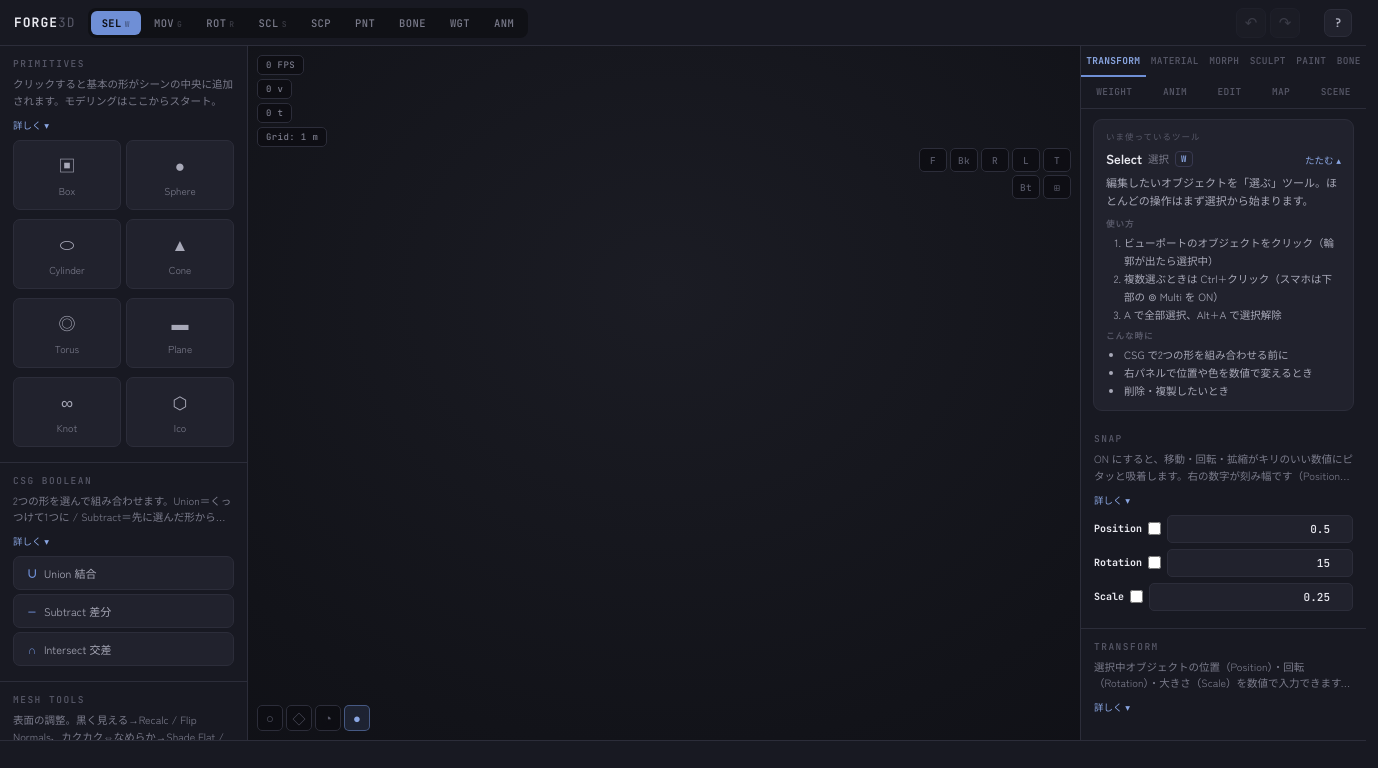
Test: App › the right panel shows the open tab's sections, each with its note, and the tool card
The width and height of the screenshot is (1378, 768).
Expected: the element named "Select の説明" is shown, [1093,119,1354,411]
Click the tab "Material": click(1175, 62) [1146,46,1204,77]
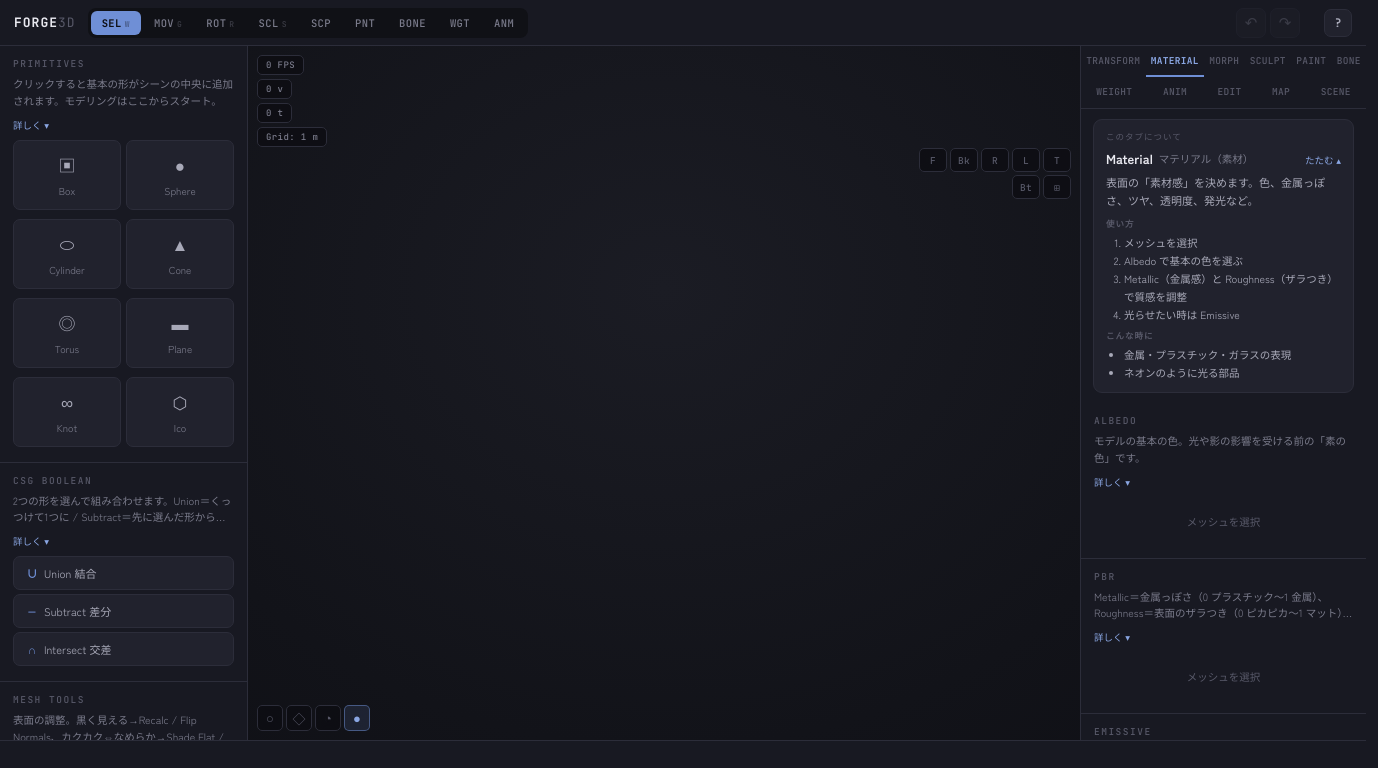
Result: the element named "Material の説明" is shown at [1093,119,1354,393]
Result: the heading "Albedo" is shown at [1094,414,1137,427]
